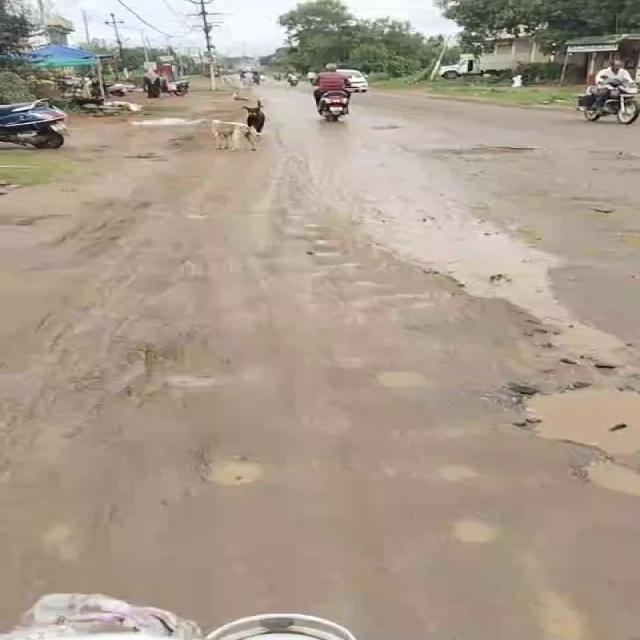pothole: (388, 238, 631, 374), (522, 386, 639, 464), (583, 456, 637, 497), (201, 454, 259, 487)
